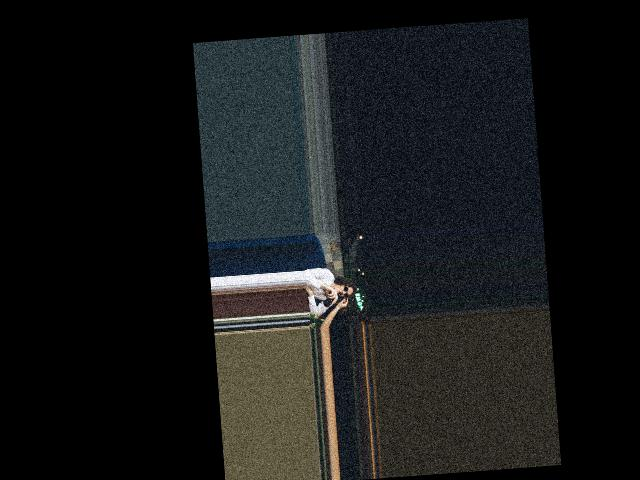beer: (321, 292, 342, 308)
